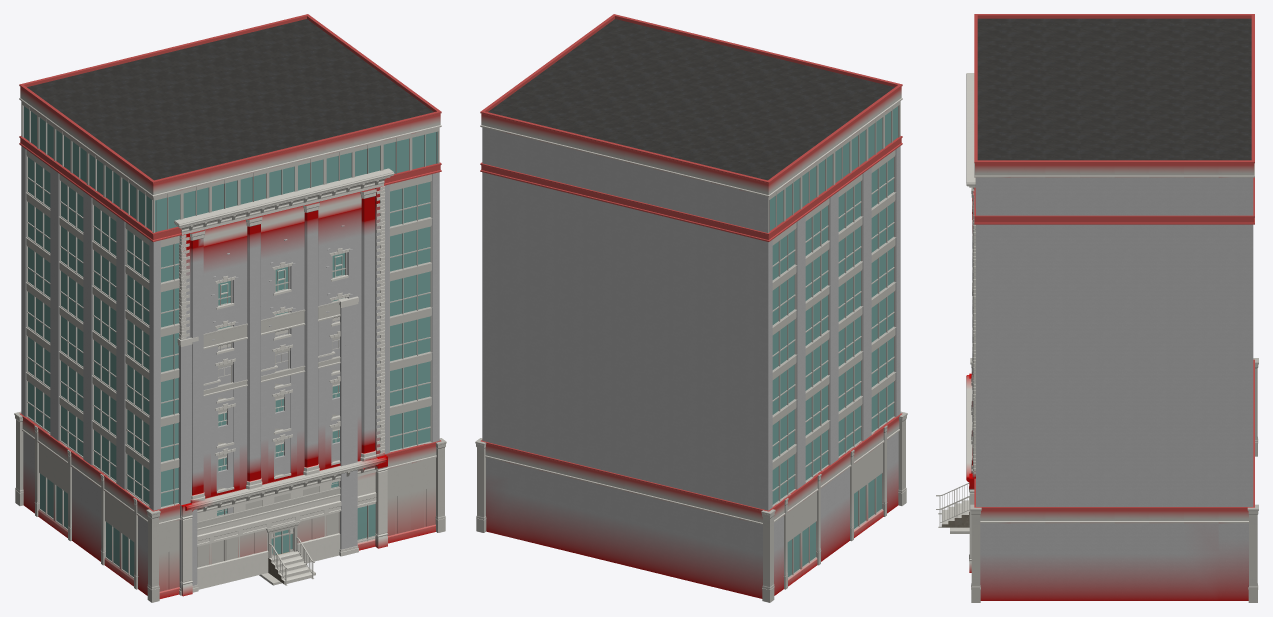
File: architecture-library.glb
3 renders of one model, left to right at view 1: azimuth 30°, elevation 25°; view 2: azimuth 150°, elevation 25°; view 3: azimuth 270°, elevation 25°, orthographic. The views are drawn at different scales.
Parts seen in each view (by area): view 1: Building_Large_2, Building_Medium_2.001, Building_Small_1; view 2: Building_Large_2; view 3: Building_Large_2, Building_Medium_2.001, Building_Small_1.
Boxes of the visible parts, x1=… form: Building_Large_2: x1=14, y1=14, x2=446, y2=602; Building_Medium_2.001: x1=174, y1=168, x2=394, y2=596; Building_Small_1: x1=177, y1=296, x2=358, y2=595; Building_Large_2: x1=475, y1=14, x2=907, y2=602; Building_Large_2: x1=970, y1=14, x2=1258, y2=602; Building_Medium_2.001: x1=966, y1=73, x2=975, y2=572; Building_Small_1: x1=936, y1=200, x2=972, y2=527.
Bounding box in the file's own units: 20.64 × 28.15 × 18.63.
12 materials, 7 textured.
